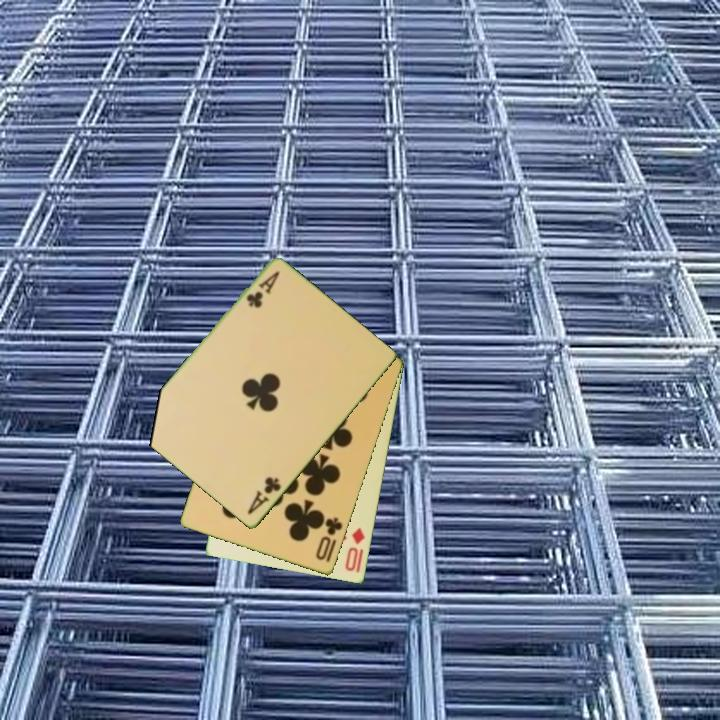10c: (312, 514, 346, 563)
10d: (342, 524, 368, 574)
Ac: (242, 268, 283, 312), (244, 473, 284, 518)
